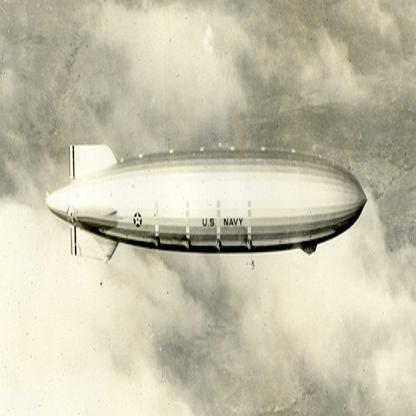Airship: (44, 139, 371, 271)
